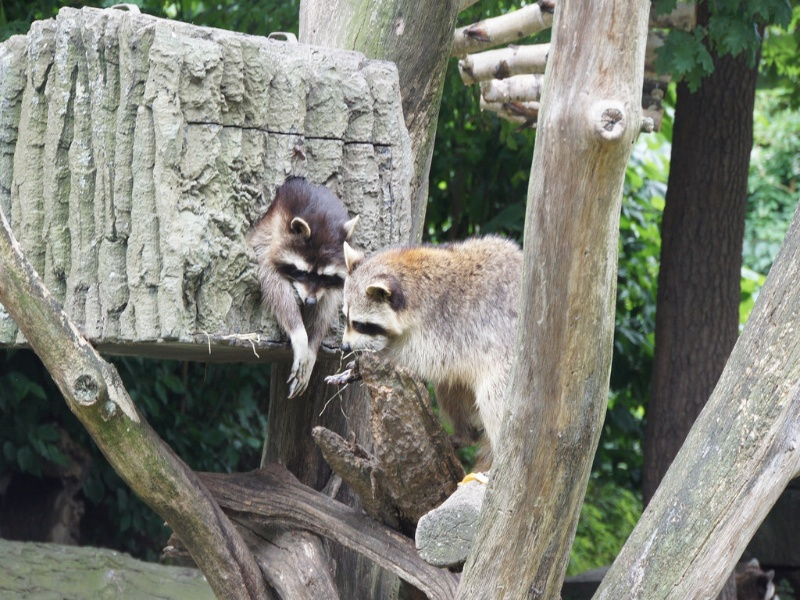raccoon: (340, 232, 526, 482), (257, 175, 357, 401)
